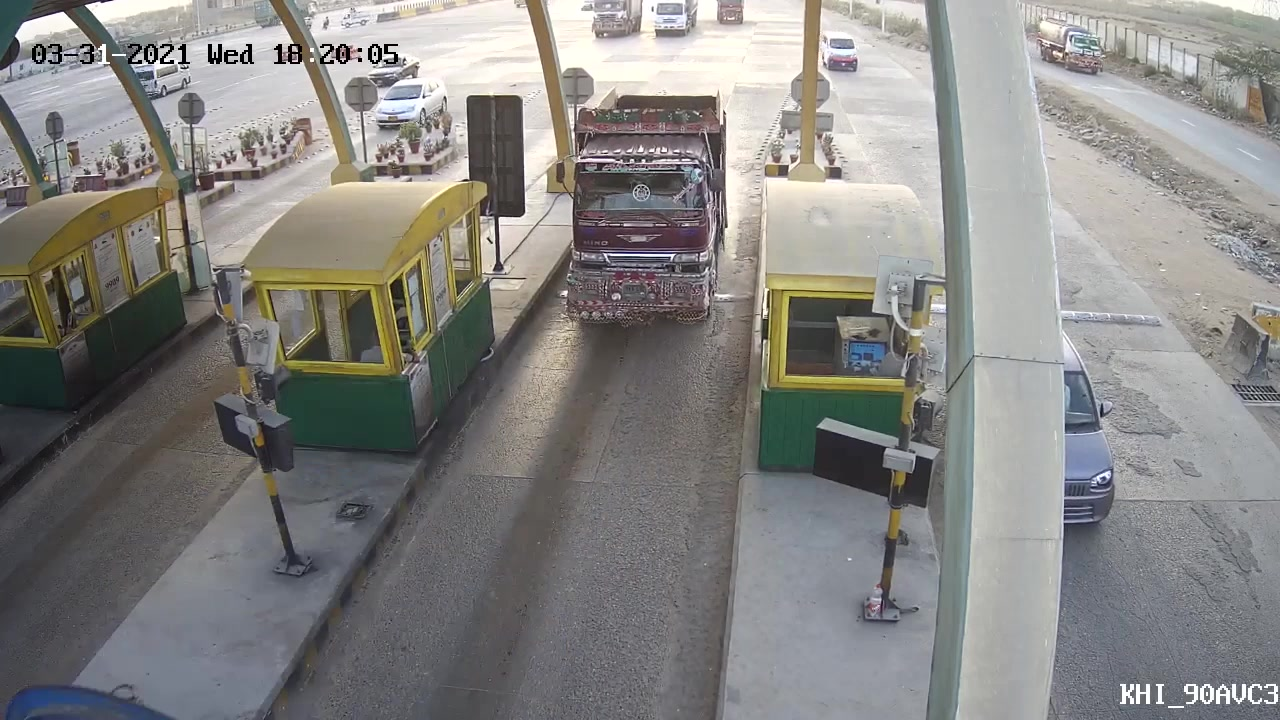F5: (553, 79, 737, 330)
